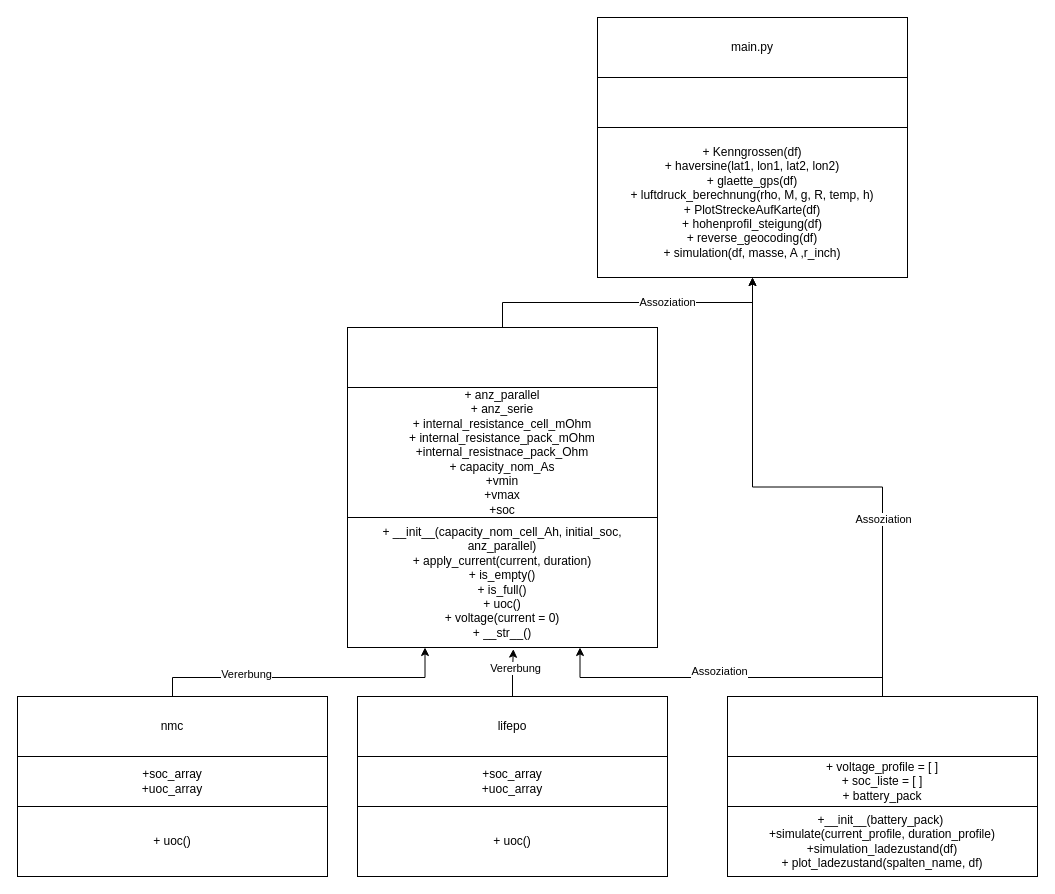
Image size: 1055x894. Some labels were removed from this diagram. The shapes that lost their labels are listed below. From the top down, each one's centre as x and y in pixels, then its label:
pixel 502 357: BatteryPack
pixel 882 726: BatterySimulator
